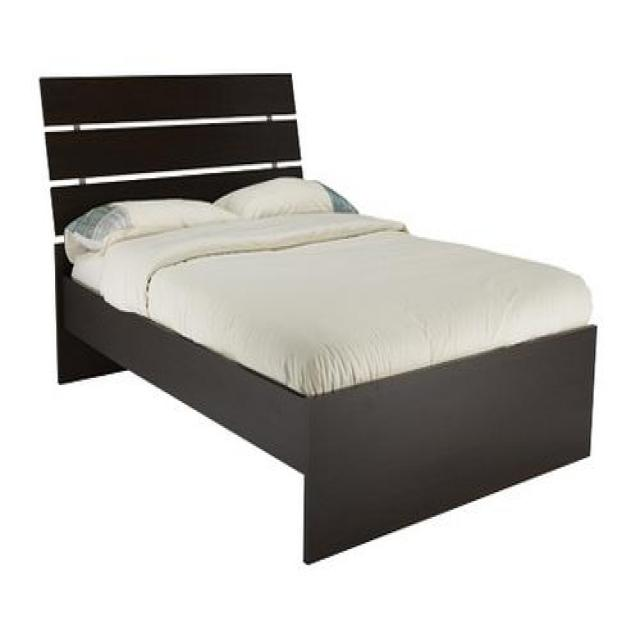bed: (37, 70, 598, 565)
